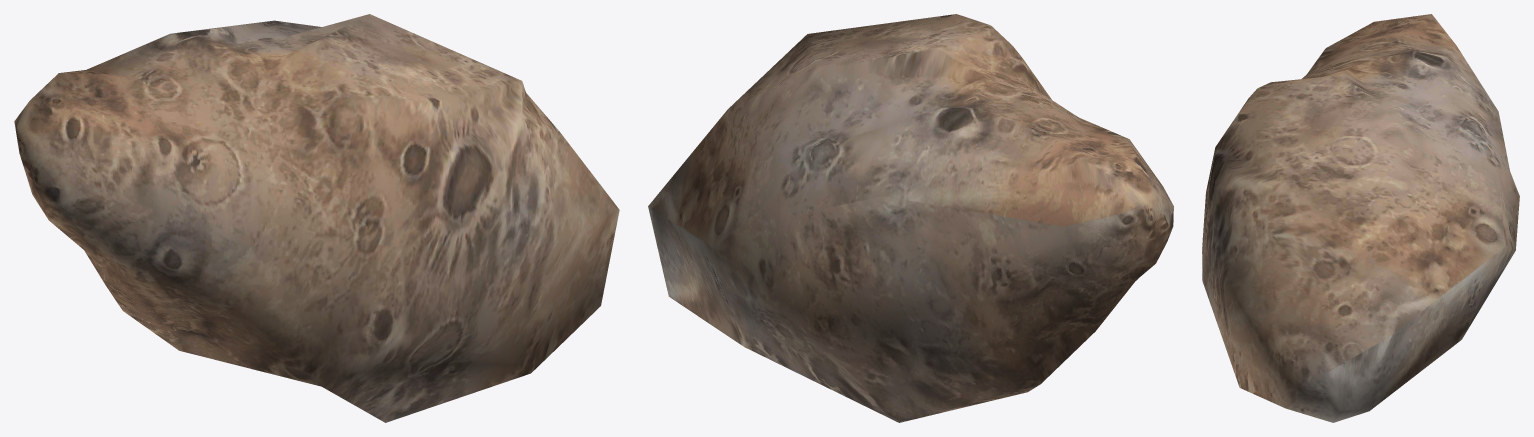
The model's file is asteroid_04.glb.
The picture shows the model from 3 angles, left to right: view 1: azimuth 30°, elevation 25°; view 2: azimuth 150°, elevation 25°; view 3: azimuth 270°, elevation 25°; orthographic projection. The views are drawn at different scales.
Visible parts, largest first — view 1: Asteroid_04_LOD0; view 2: Asteroid_04_LOD0; view 3: Asteroid_04_LOD0.
Boxes of the visible parts, x1,y1,x2,y2 form: Asteroid_04_LOD0: (14,14,619,422); Asteroid_04_LOD0: (648,14,1173,422); Asteroid_04_LOD0: (1202,14,1519,422).
Size of the model in its own units: 6.59 by 4.25 by 4.2.
1 material, 1 textured.
